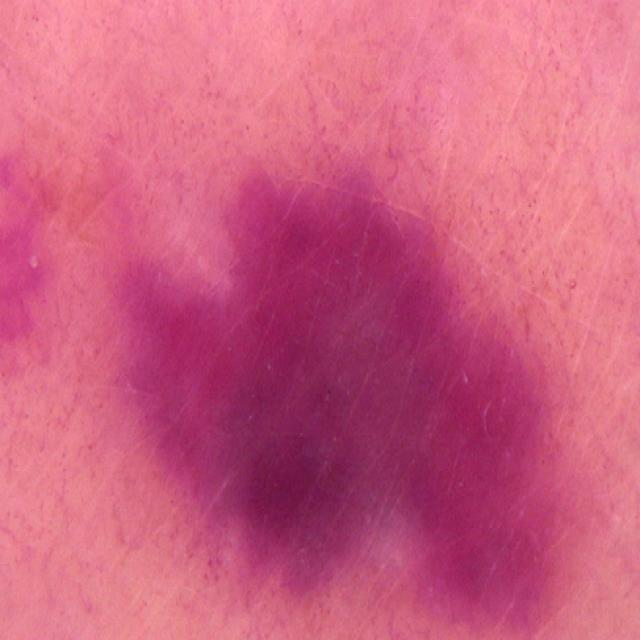Vascular Lesions: (0, 102, 612, 640)
